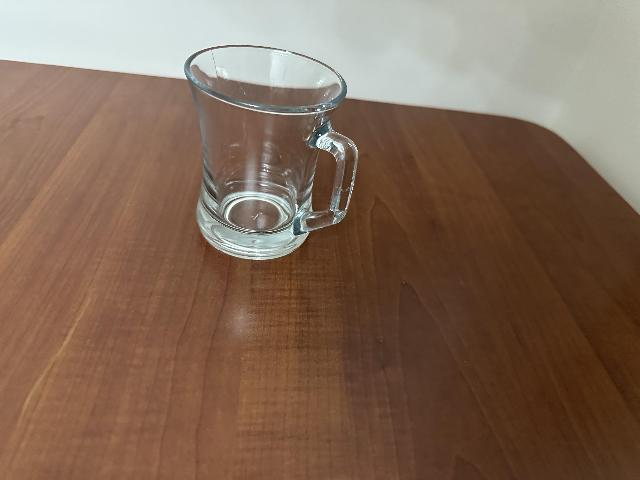Cam: (178, 40, 359, 259)
